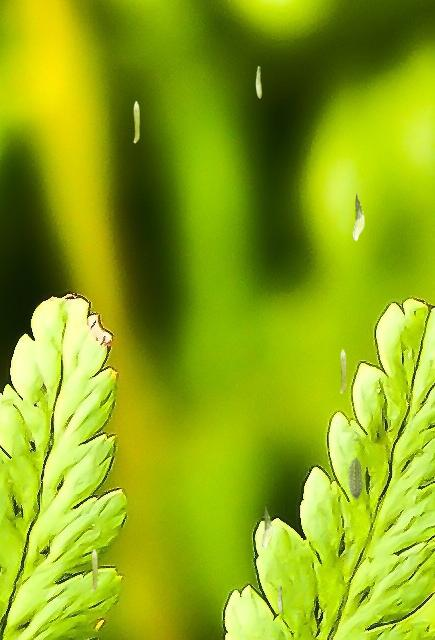ampalaya: (347, 457, 363, 499), (352, 192, 364, 241), (261, 506, 272, 549), (339, 349, 346, 394), (91, 548, 98, 591), (133, 100, 140, 143), (255, 65, 262, 98), (277, 585, 283, 614)
